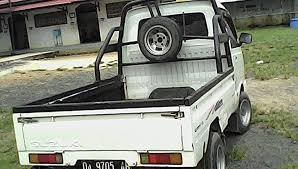plate: (81, 161, 126, 168)
